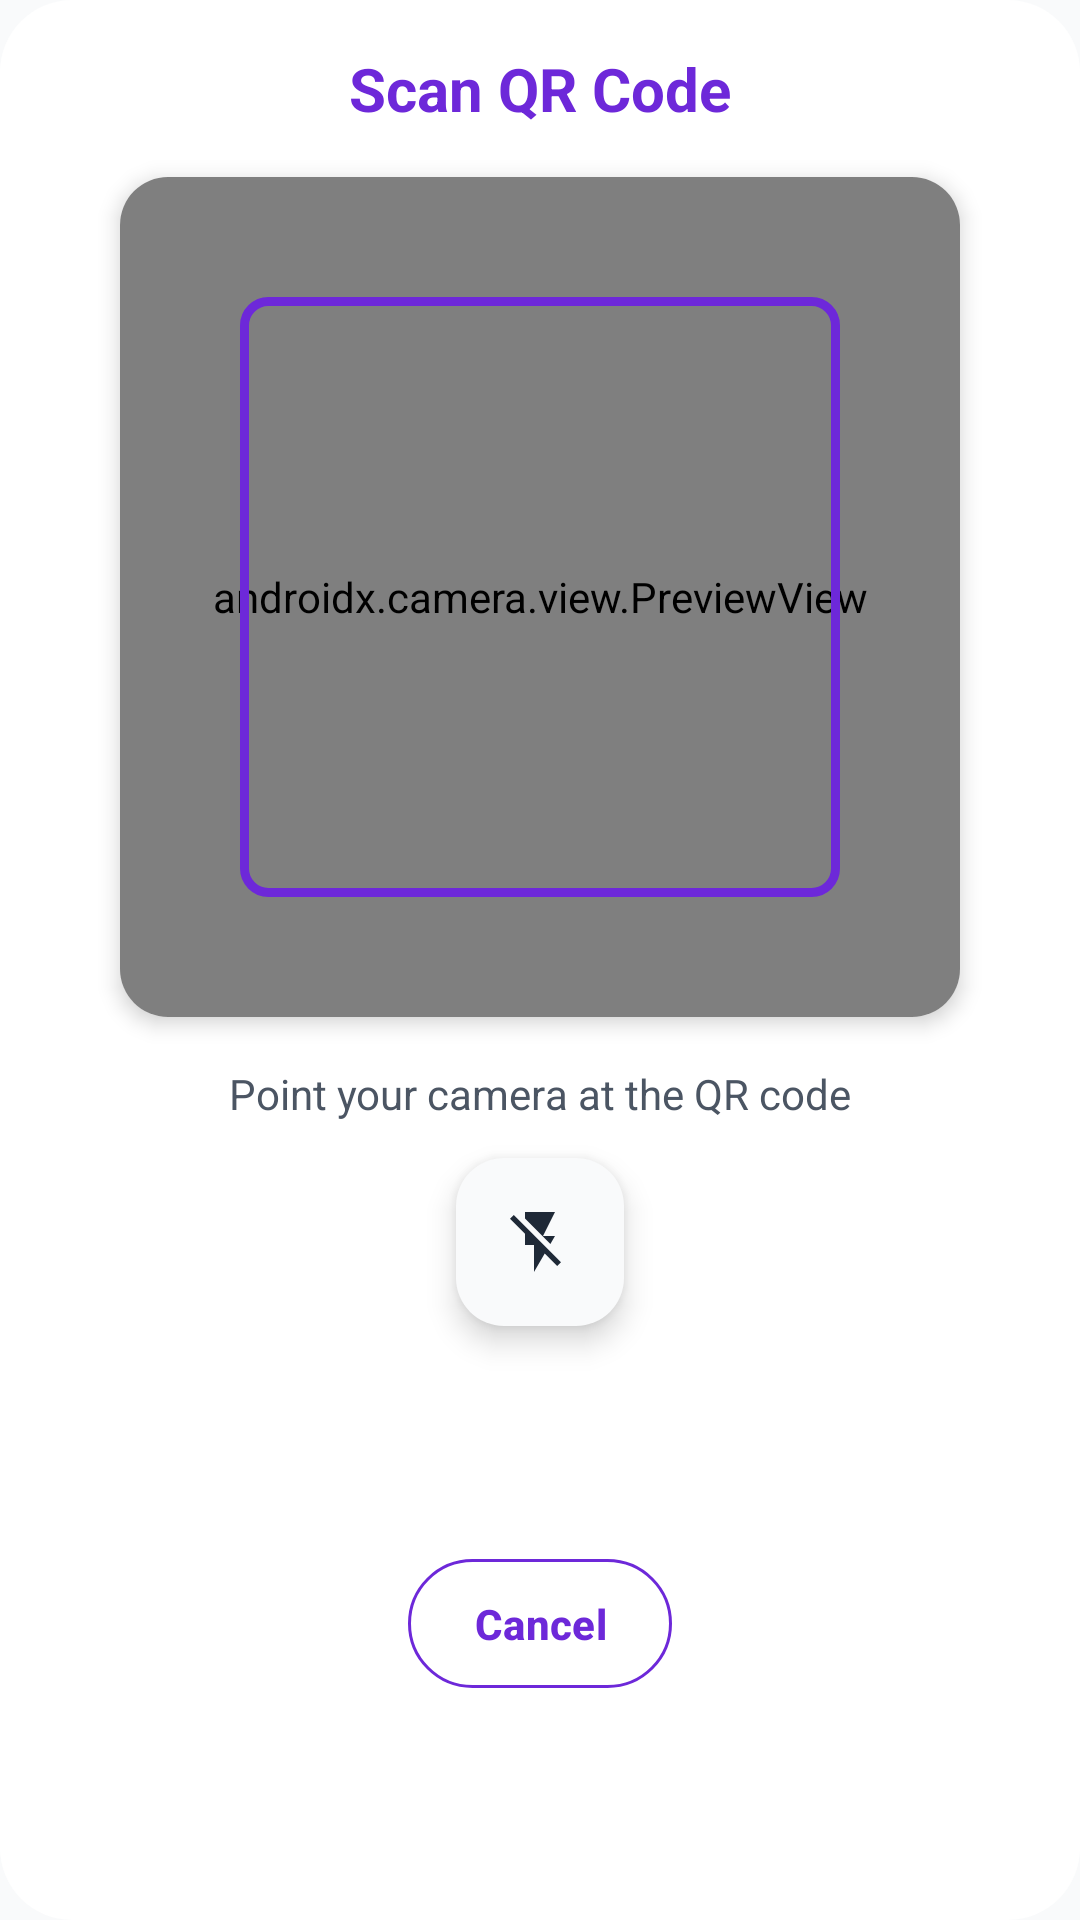

Icon bounding boxes for this 1080 x 1920 phone screenshot, format detection(x1, y1, x2, y2):
Flash: detection(510, 1212, 561, 1272)
